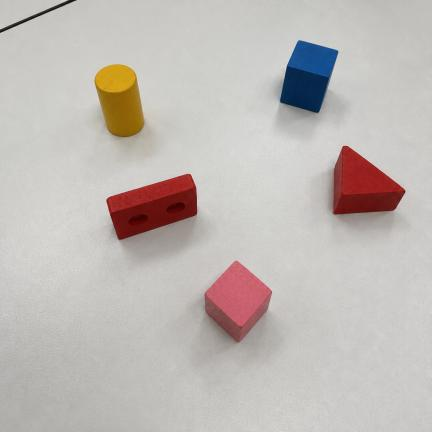BuildingBlocks: (107, 175, 197, 239), (205, 262, 271, 341), (334, 146, 404, 213), (281, 41, 337, 112), (95, 65, 144, 136)
